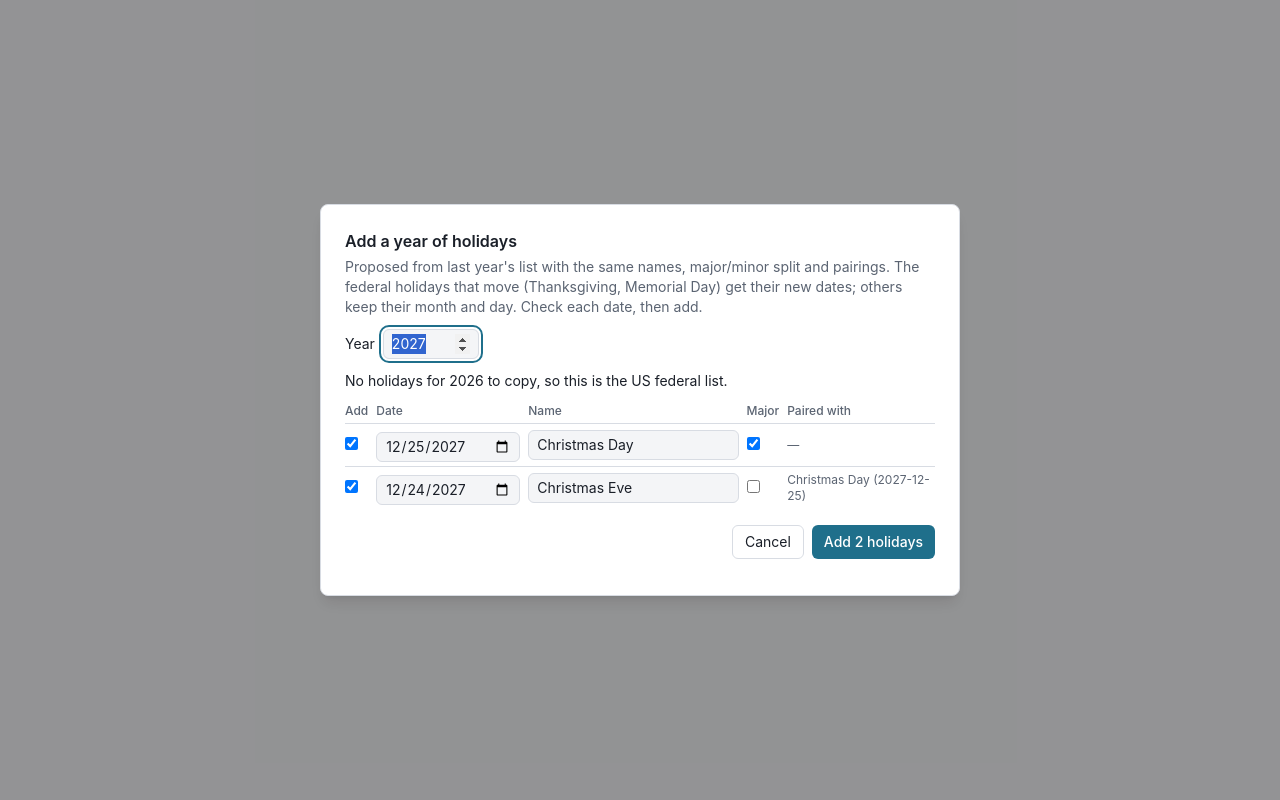
Scenario: Settings › Holidays › Add a year › lets the manager type a year digit by digit
Check: the button "Add 2 holidays" is shown, box [812, 525, 935, 559]
Replace the text in the number field labelled "Year" with "2" at (431, 344), box [383, 329, 479, 359]
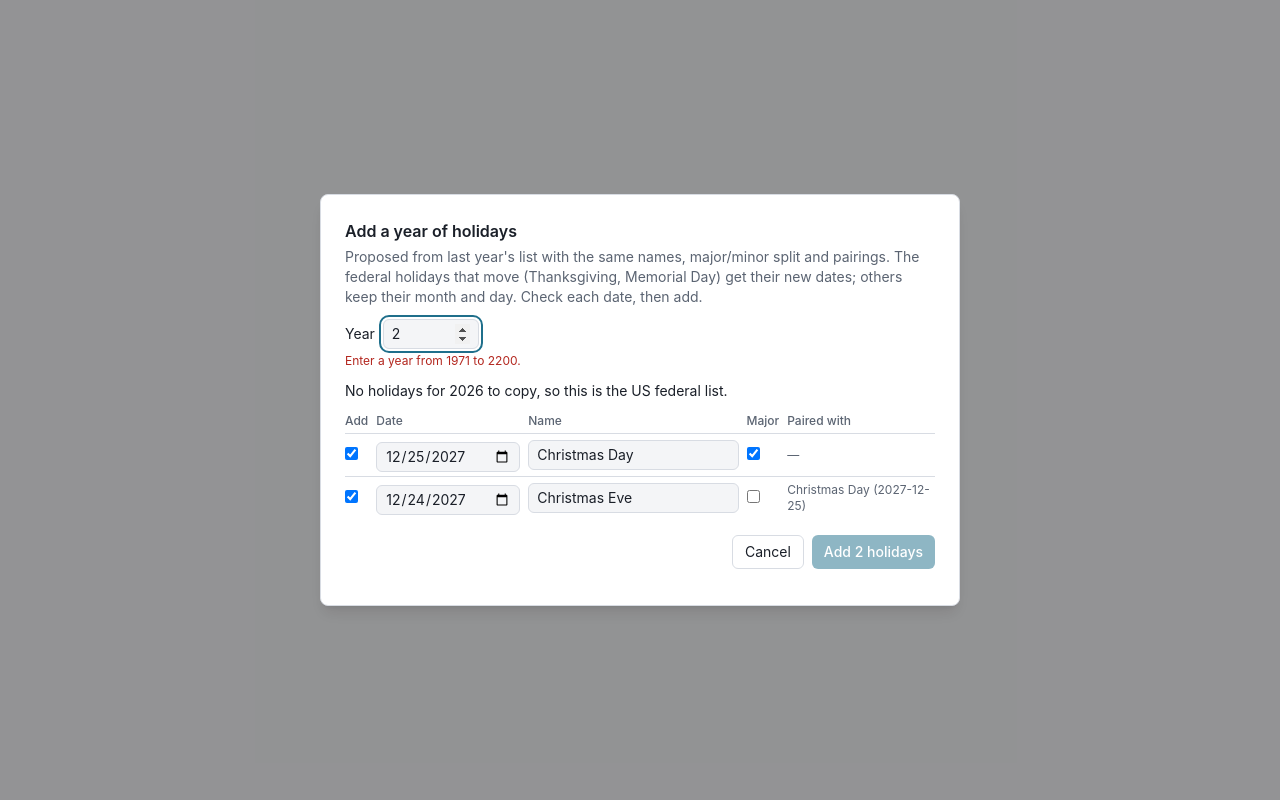
Replace the text in the number field labelled "Year" with "20" at (431, 334), box [383, 319, 479, 349]
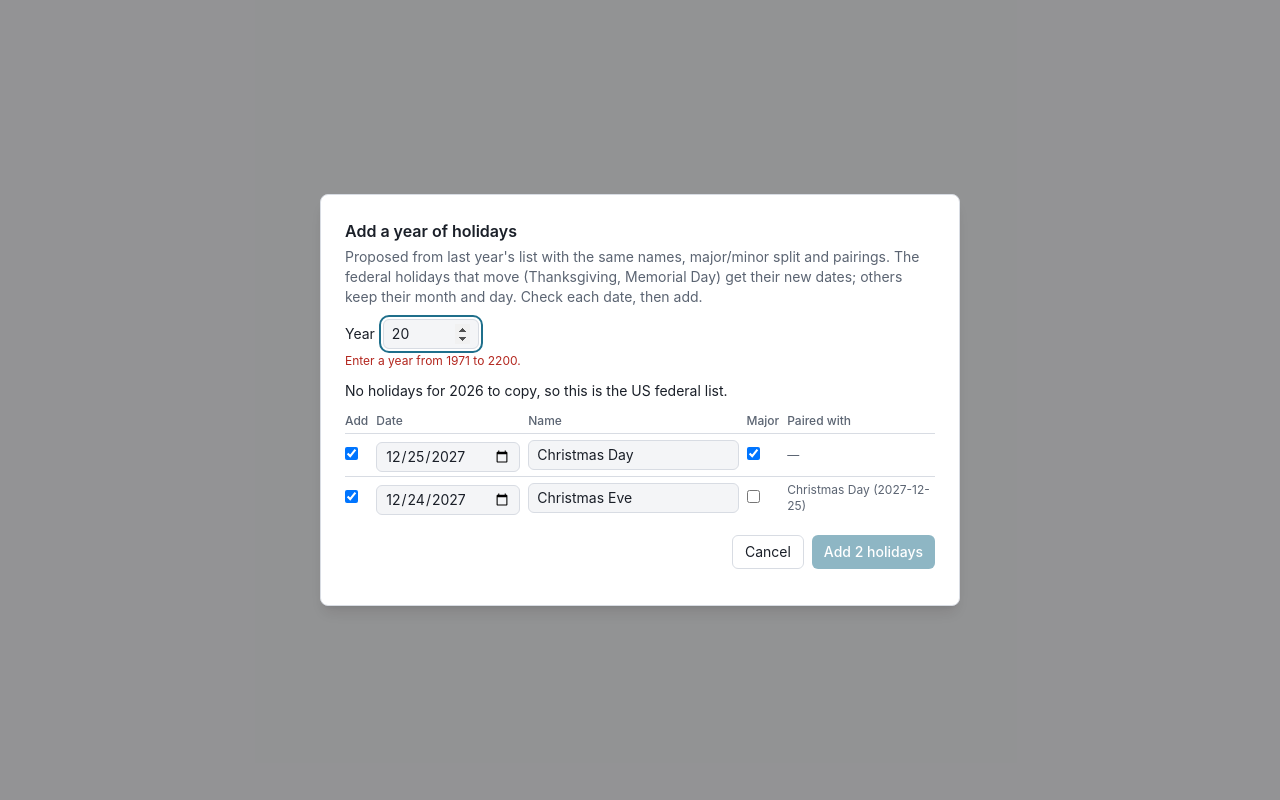
Replace the text in the number field labelled "Year" with "202" at (431, 334), box [383, 319, 479, 349]
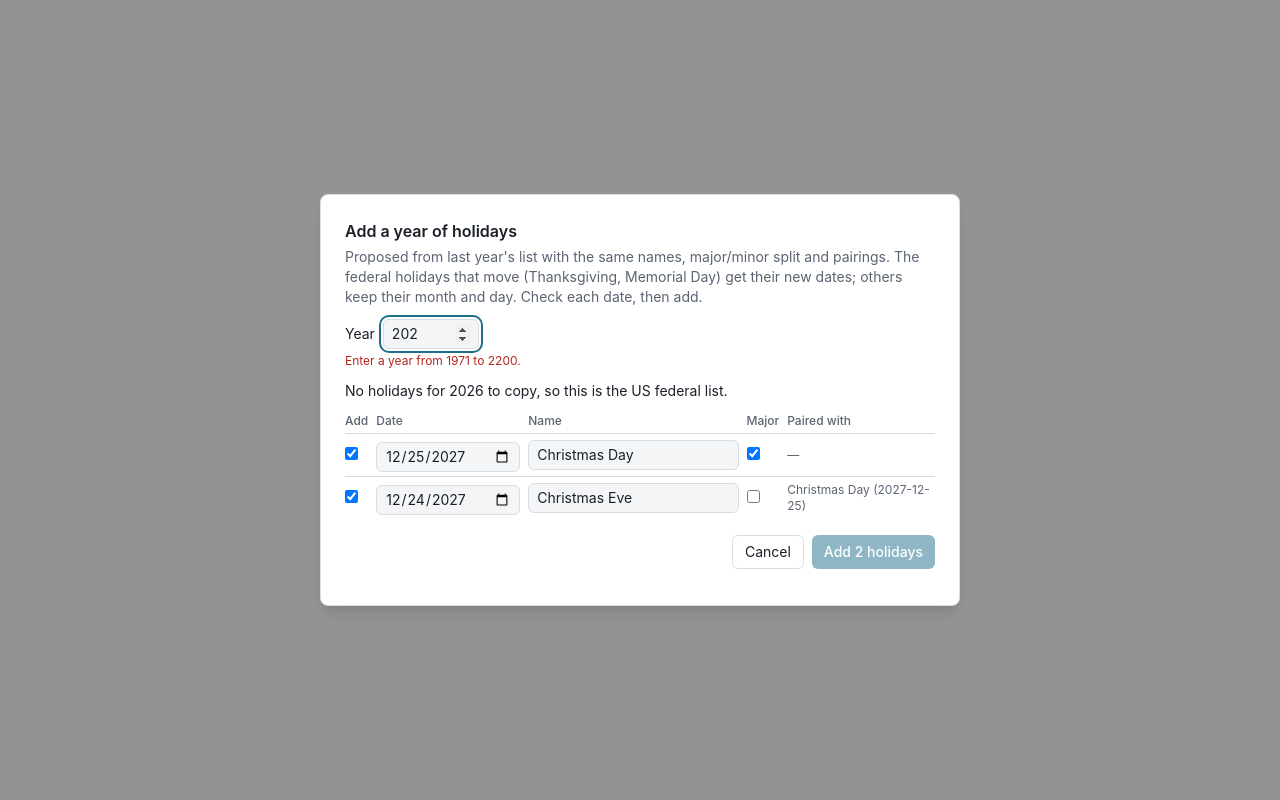
Check: the text "Enter a year from 1971 to 2200." is shown, box [345, 353, 521, 368]
Replace the text in the number field labelled "Year" with "2028" at (431, 334), box [383, 319, 479, 349]
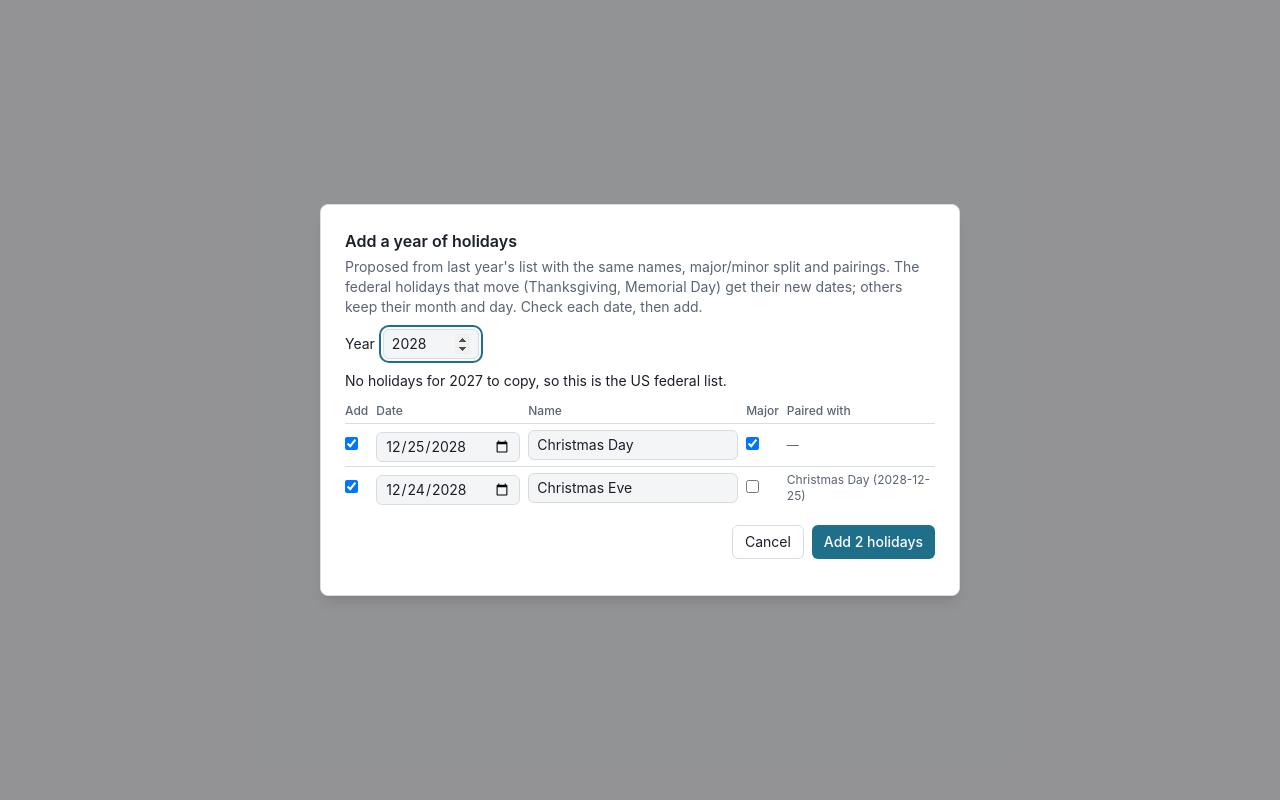
Check: the text "Enter a year from 1971 to 2200." is gone
